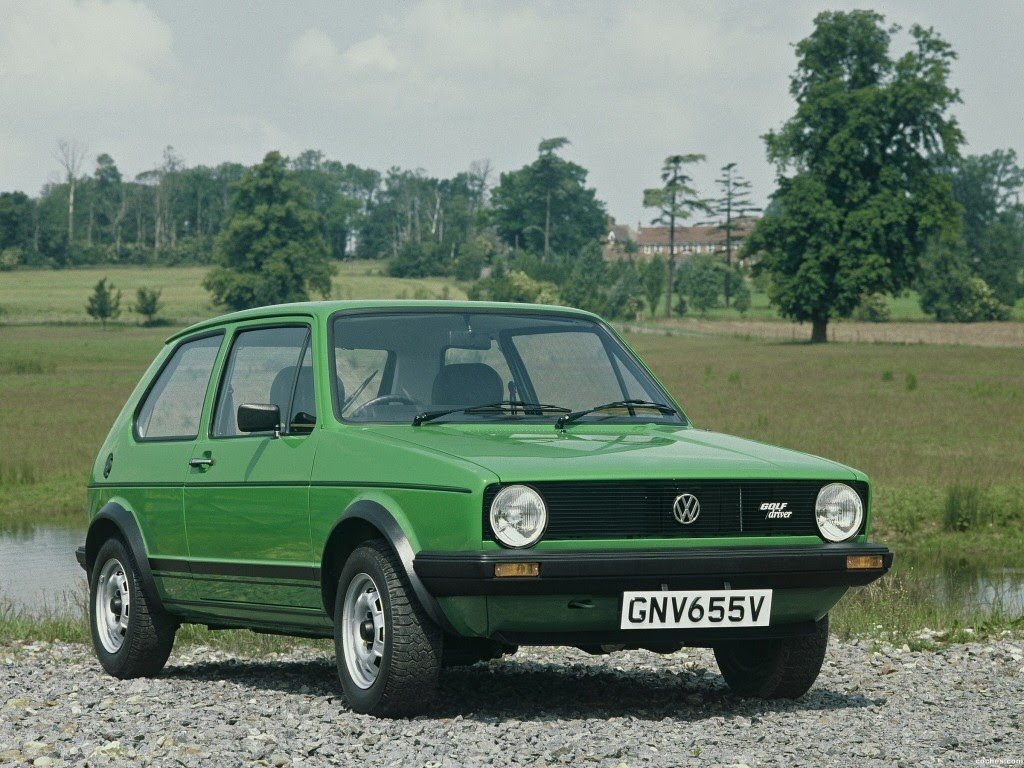car: (32, 240, 898, 744)
